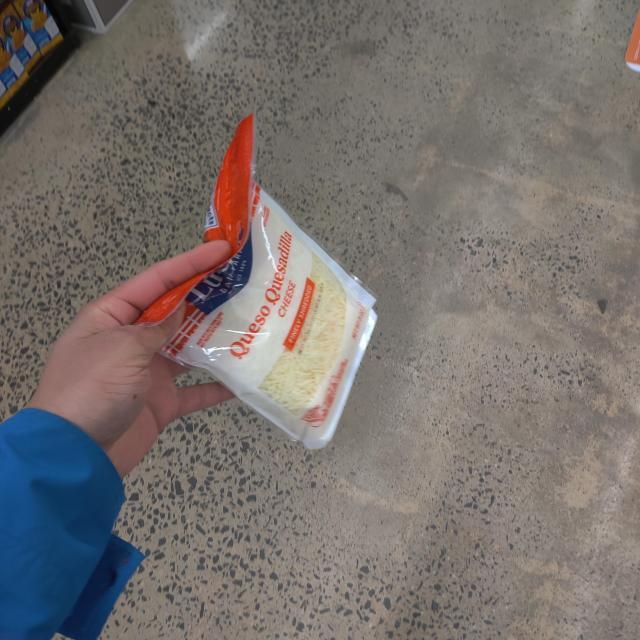Cheese: (154, 147, 402, 444)
